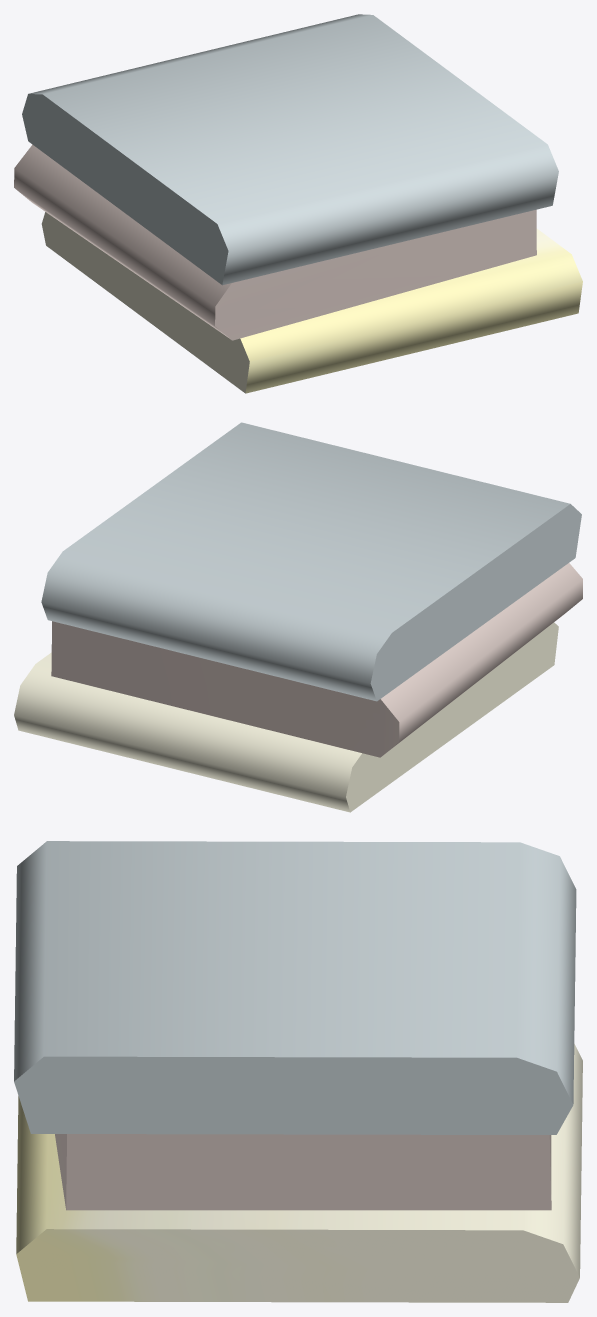
Rendered from shop_038.glb.
3 views of the same model, one above another, from view 1: azimuth 30°, elevation 25°; view 2: azimuth 150°, elevation 25°; view 3: azimuth 270°, elevation 25° (orthographic). The views are drawn at different scales.
Parts seen in each view (by area): view 1: shop_038; view 2: shop_038; view 3: shop_038.
Part boxes in pixels (x1,y1,x2,y2): shop_038: [14, 14, 582, 393]; shop_038: [14, 422, 582, 812]; shop_038: [14, 841, 582, 1302].
Size of the model in its own units: 0.4103 by 0.1796 by 0.4048.
Materials: 1 (1 with a texture image).
